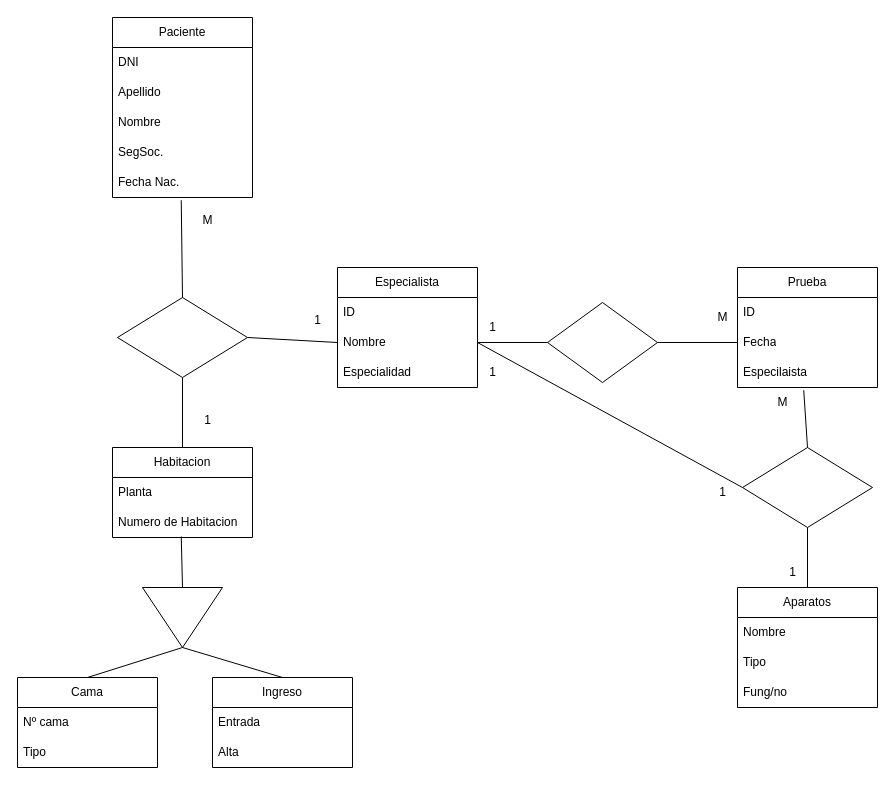
Some shapes in this 895 by 785 pixel diagram are drawn without their labels. The centre of each missing label's shape, as x and y in pixels:
"Asigna" goes at (182,337).
"Realiza" goes at (602,342).
"Requiere" goes at (807,487).
"Tiene" goes at (182,617).
